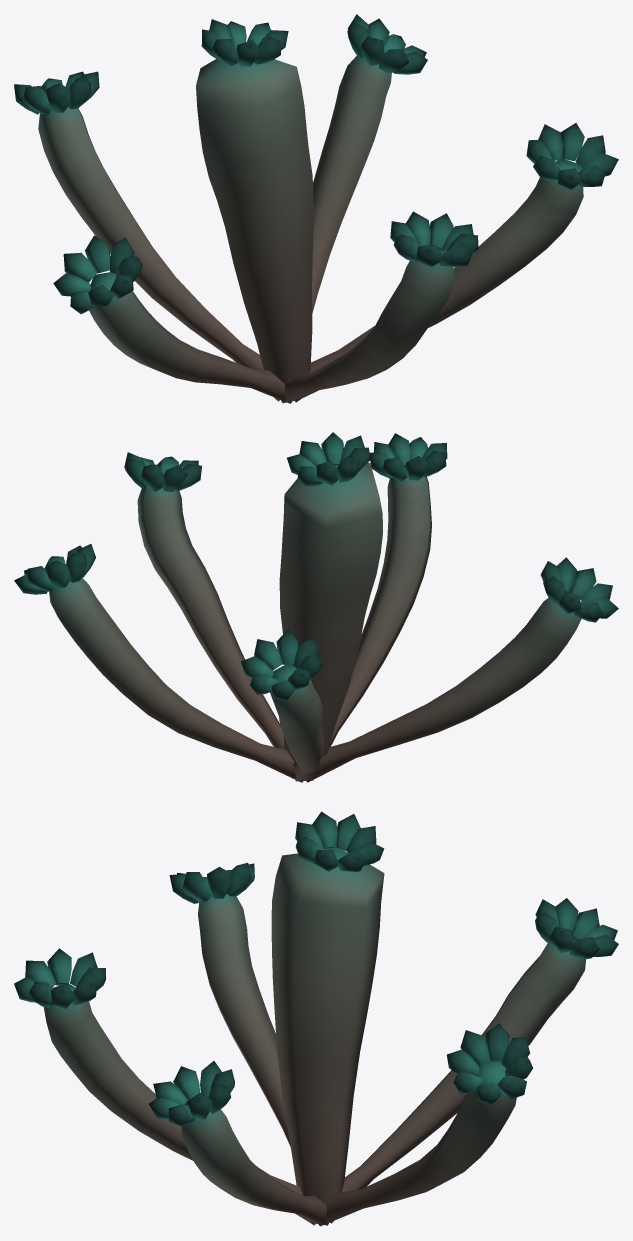
File: plants-cacti-succulents-fan-succulent_v1.fbx
3 renders of one model, top to bottom at view 1: azimuth 30°, elevation 25°; view 2: azimuth 150°, elevation 25°; view 3: azimuth 270°, elevation 25°, orthographic. The views are drawn at different scales.
Parts seen in each view (by area): view 1: Fan Succulent_v1; view 2: Fan Succulent_v1; view 3: Fan Succulent_v1.
Part boxes in pixels (x1,y1,x2,y2): Fan Succulent_v1: [14, 14, 618, 403]; Fan Succulent_v1: [14, 432, 618, 782]; Fan Succulent_v1: [14, 811, 618, 1226].
Bounding box in the file's own units: 0.3 × 0.2016 × 0.294.
